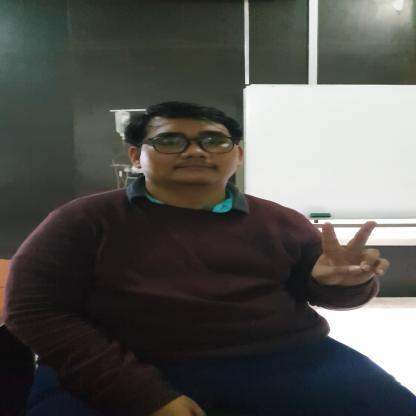V: (310, 220, 391, 288)
